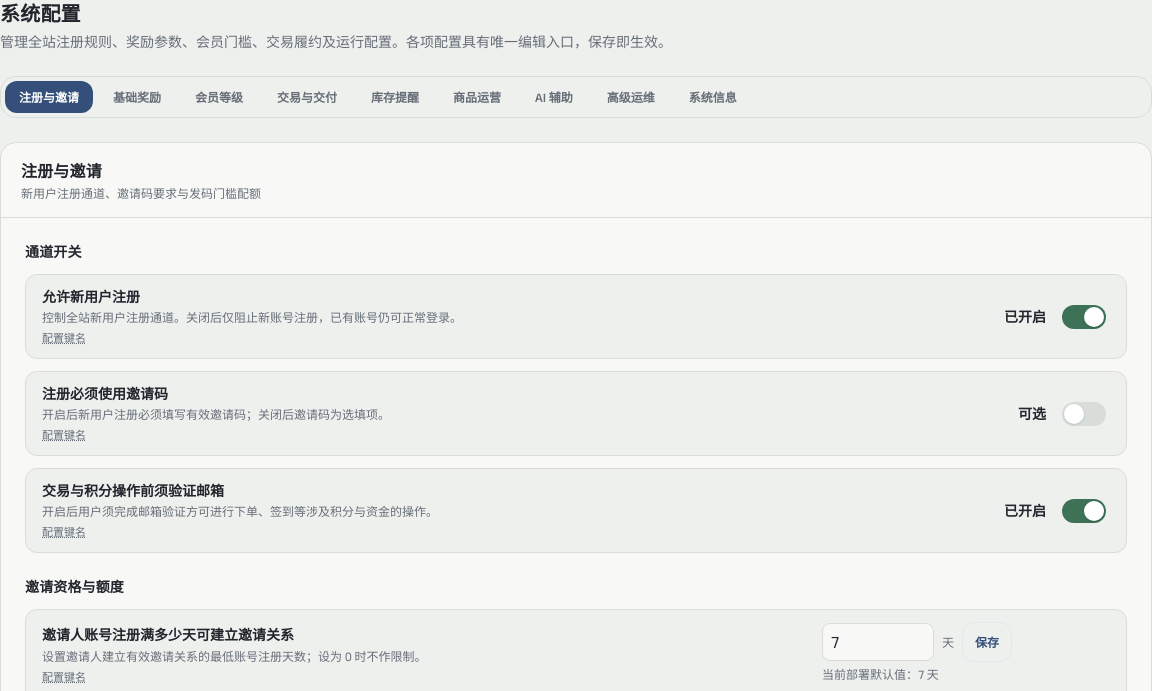
Test: AdminConfigPanel & B2 Specifications › switches between group tabs while preserving draft inputs in memory
// Switch to 基础奖励
Click the tab "基础奖励": (137, 97) [99,81,175,113]
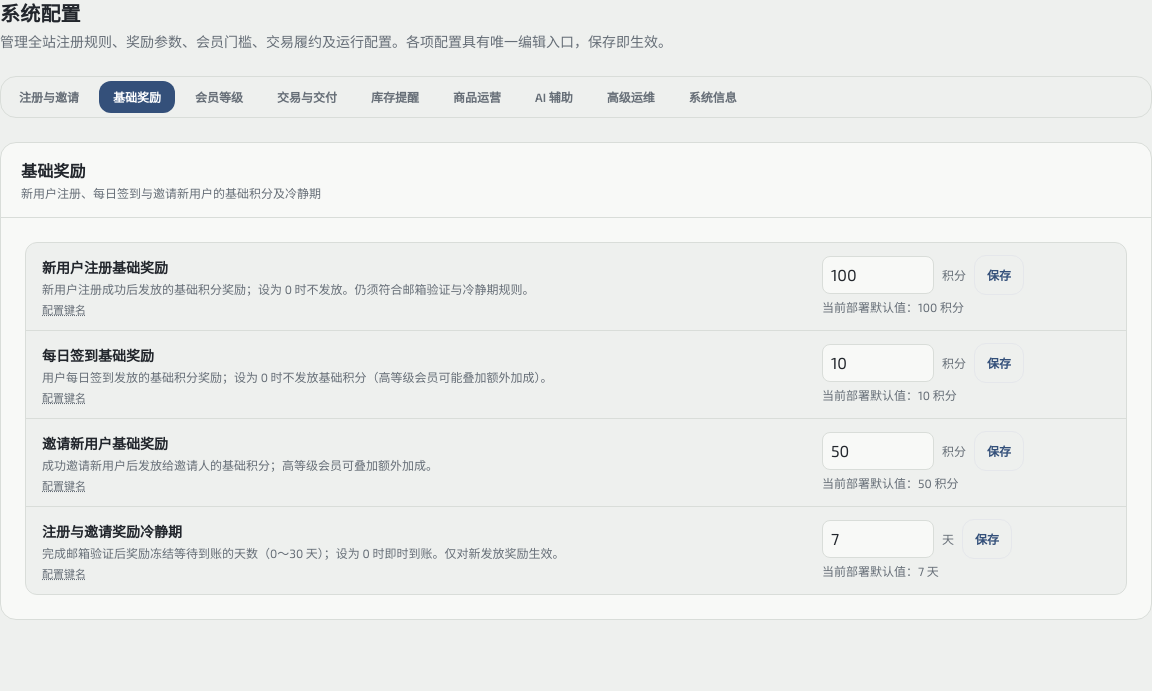
Now the number field with test id "admin-config-input-checkinReward" holds "10"
// Edit input draft
Replace the text in the number field with test id "admin-config-input-checkinReward" with "25": (878, 363) [822,344,934,382]
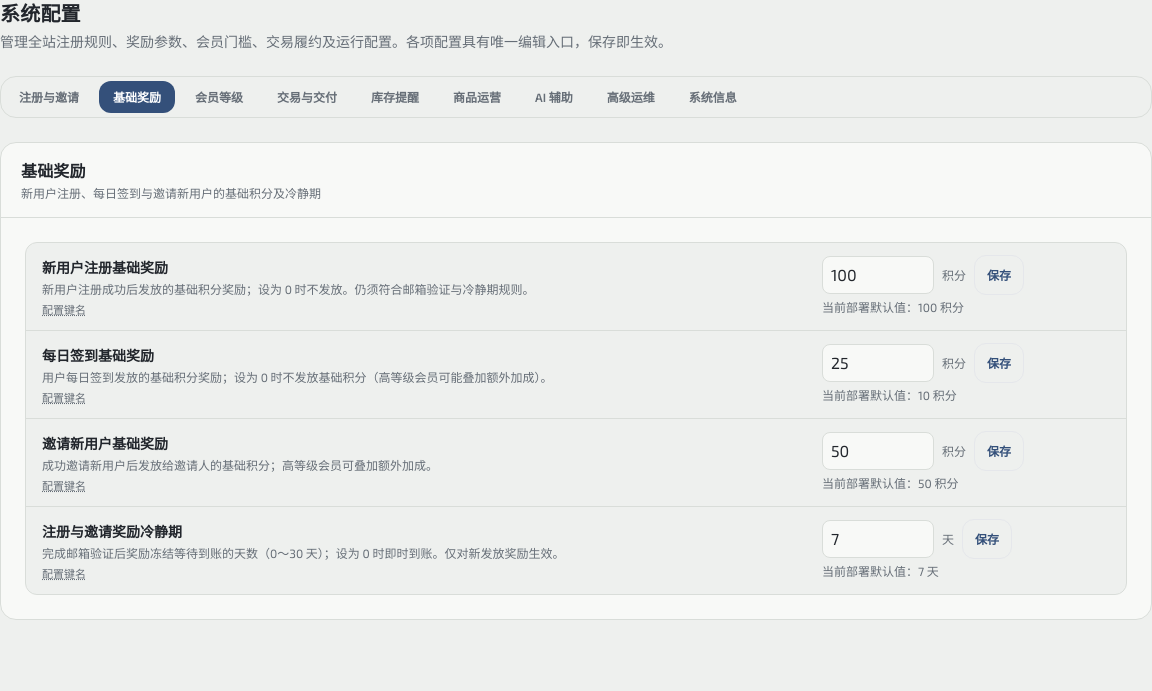
// Switch away to 会员等级
Click the tab "会员等级": (219, 97) [181,81,257,113]
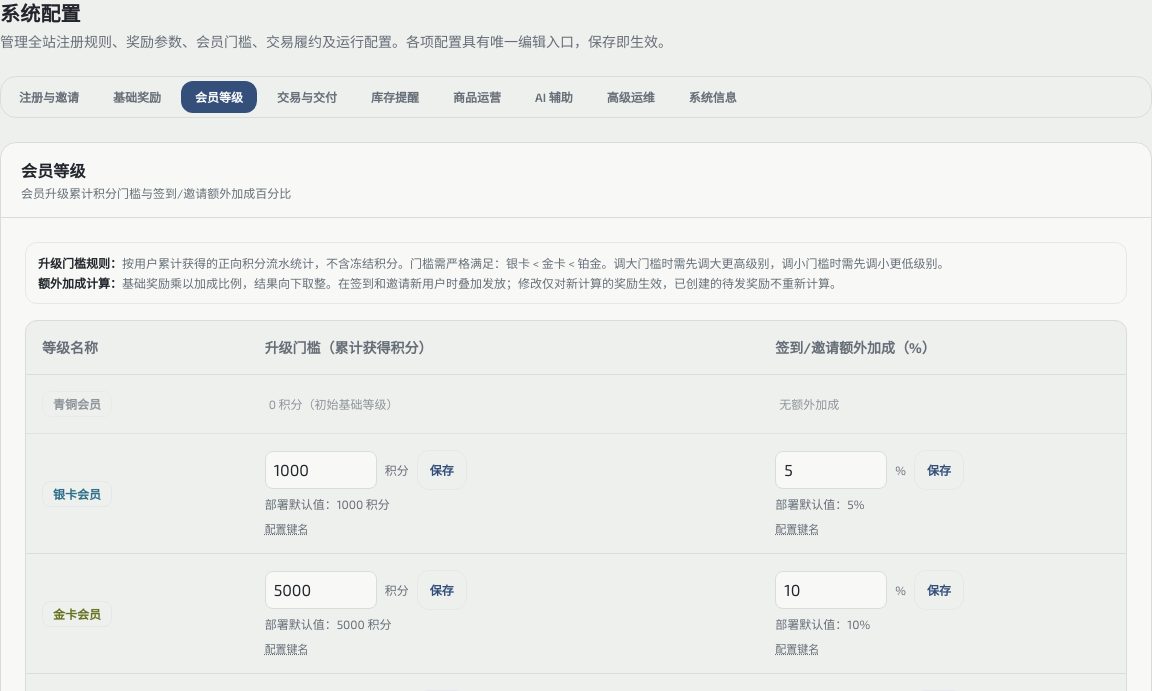
Now the text "青铜会员" is shown, box [42,391,112,417]
// Switch back to 基础奖励
Click the tab "基础奖励": (137, 97) [99,81,175,113]
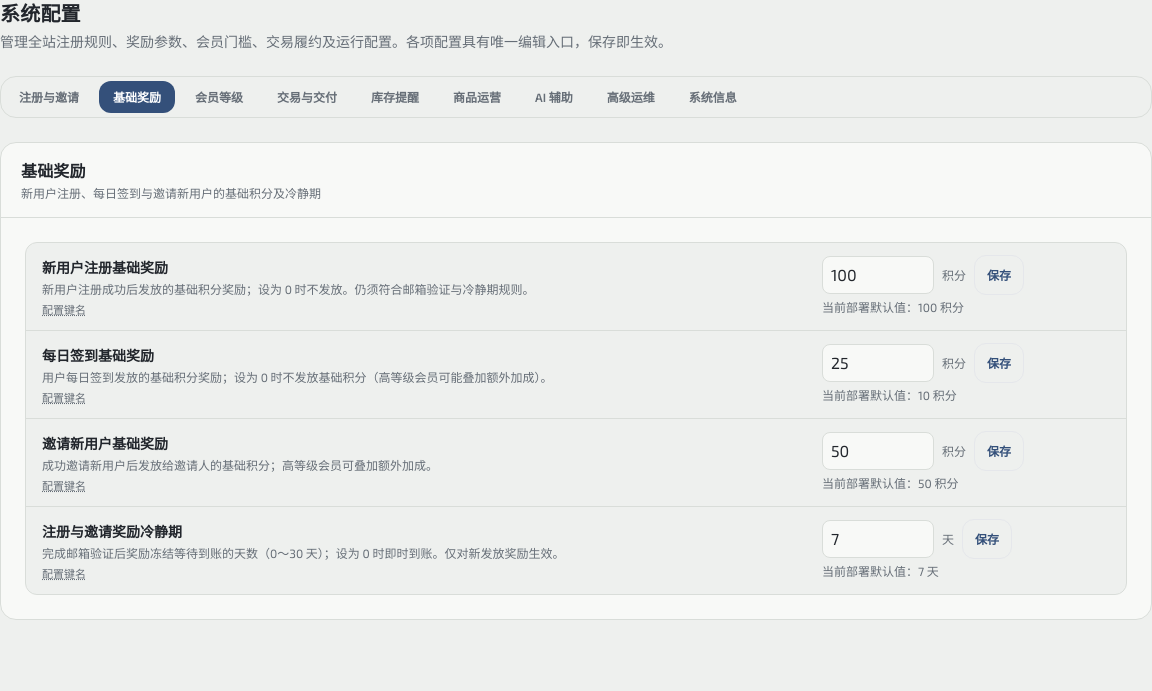
Now the number field with test id "admin-config-input-checkinReward" holds "25", box [822,344,934,382]
